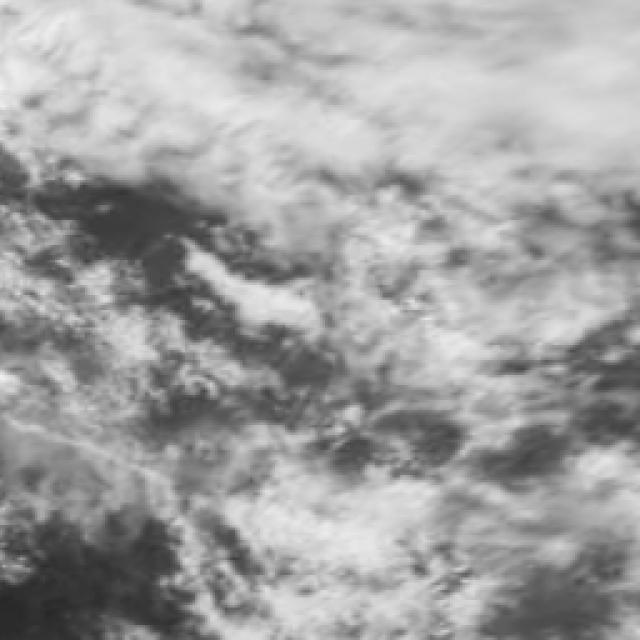CB: (196, 8, 443, 164), (4, 5, 224, 176), (431, 0, 640, 175)
